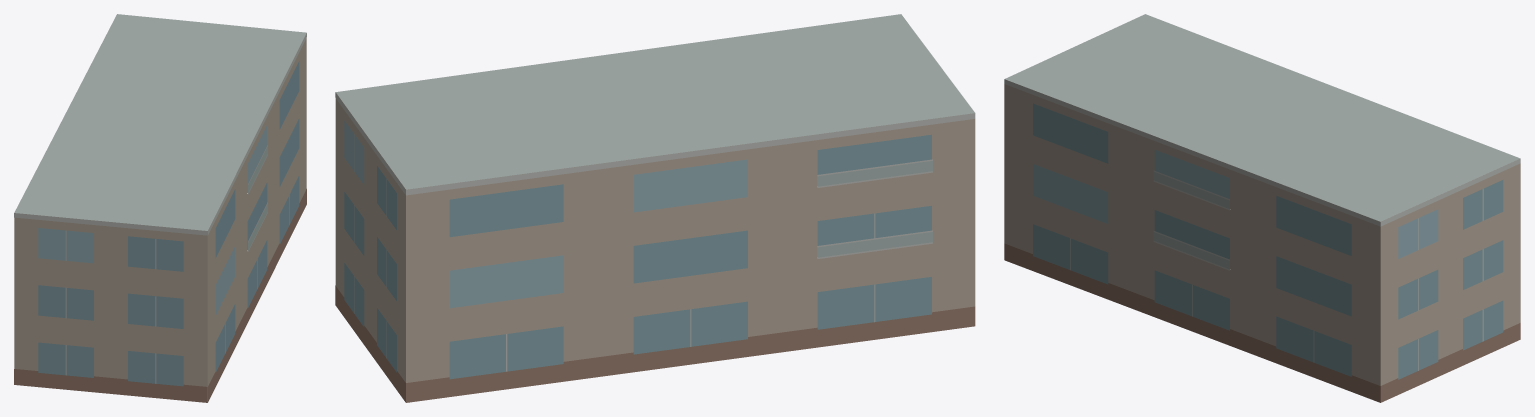
Rendered from survey-upis-32714398.glb.
The picture shows the model from 3 angles, left to right: view 1: azimuth 30°, elevation 25°; view 2: azimuth 150°, elevation 25°; view 3: azimuth 270°, elevation 25°; orthographic projection. The views are drawn at different scales.
Parts seen in each view (by area): view 1: survey-upis-32714398.tmp; view 2: survey-upis-32714398.tmp; view 3: survey-upis-32714398.tmp.
Part boxes in pixels (left/top/right/bottom): survey-upis-32714398.tmp: left=14, top=14, right=306, bottom=402; survey-upis-32714398.tmp: left=335, top=14, right=975, bottom=402; survey-upis-32714398.tmp: left=1004, top=14, right=1520, bottom=402.
Size of the model in its own units: 22.53 by 9.15 by 23.65.
